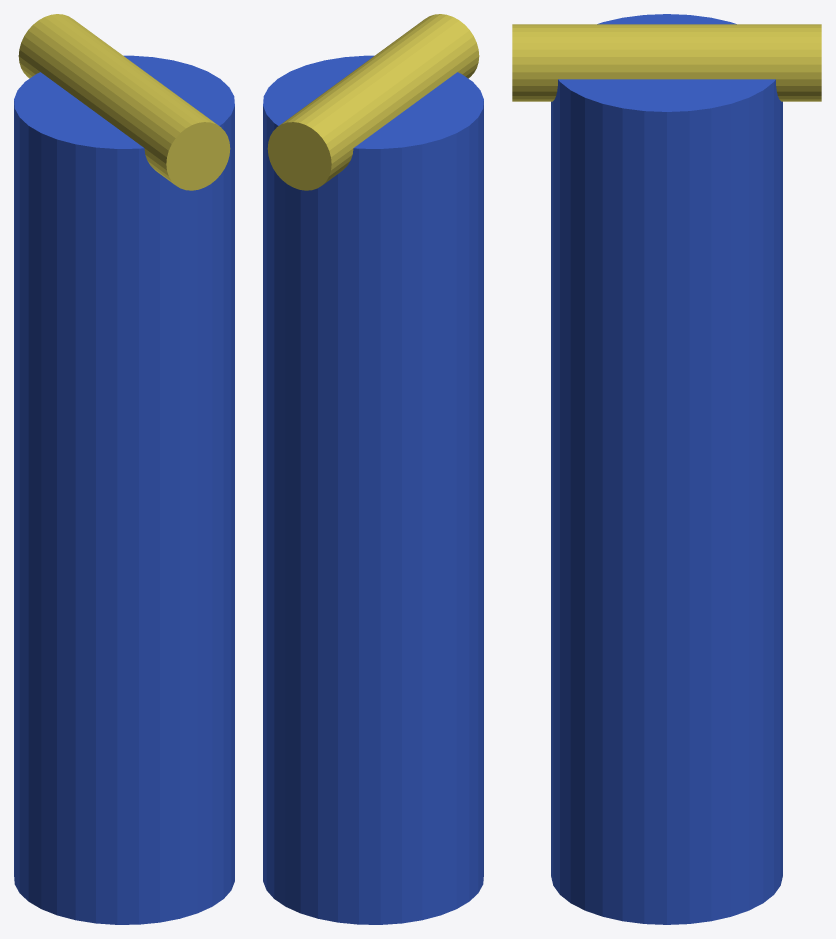
Rendered from lowerArm.dae.
The picture shows the model from 3 angles, left to right: view 1: azimuth 30°, elevation 25°; view 2: azimuth 150°, elevation 25°; view 3: azimuth 270°, elevation 25°; orthographic projection. The views are drawn at different scales.
Visible parts, largest first — view 1: Cylinder_001; view 2: Cylinder_001; view 3: Cylinder_001.
Part boxes in pixels (box(x1,y1,x2,y2)): Cylinder_001: box(14, 14, 234, 924); Cylinder_001: box(263, 14, 483, 924); Cylinder_001: box(512, 14, 821, 924).
Bounding box in the file's own units: 0.06 × 0.08 × 0.242.
